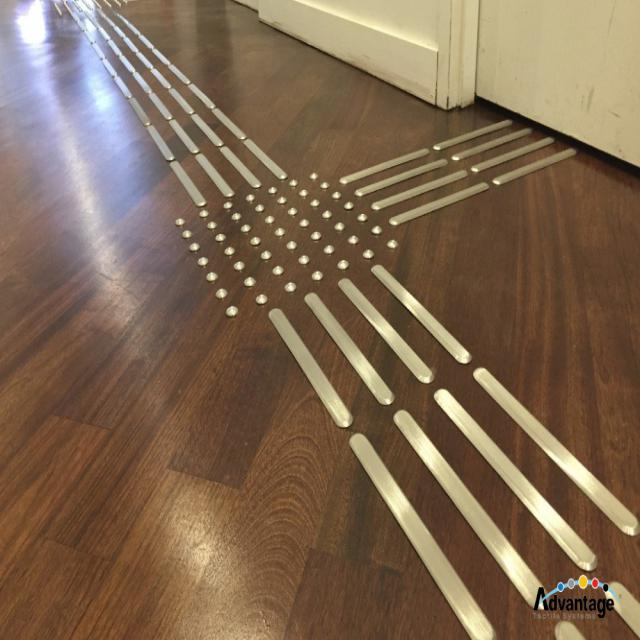tactile-guide-path: (268, 266, 640, 639), (70, 8, 286, 204), (173, 172, 399, 318), (340, 117, 576, 226), (53, 0, 131, 17)
